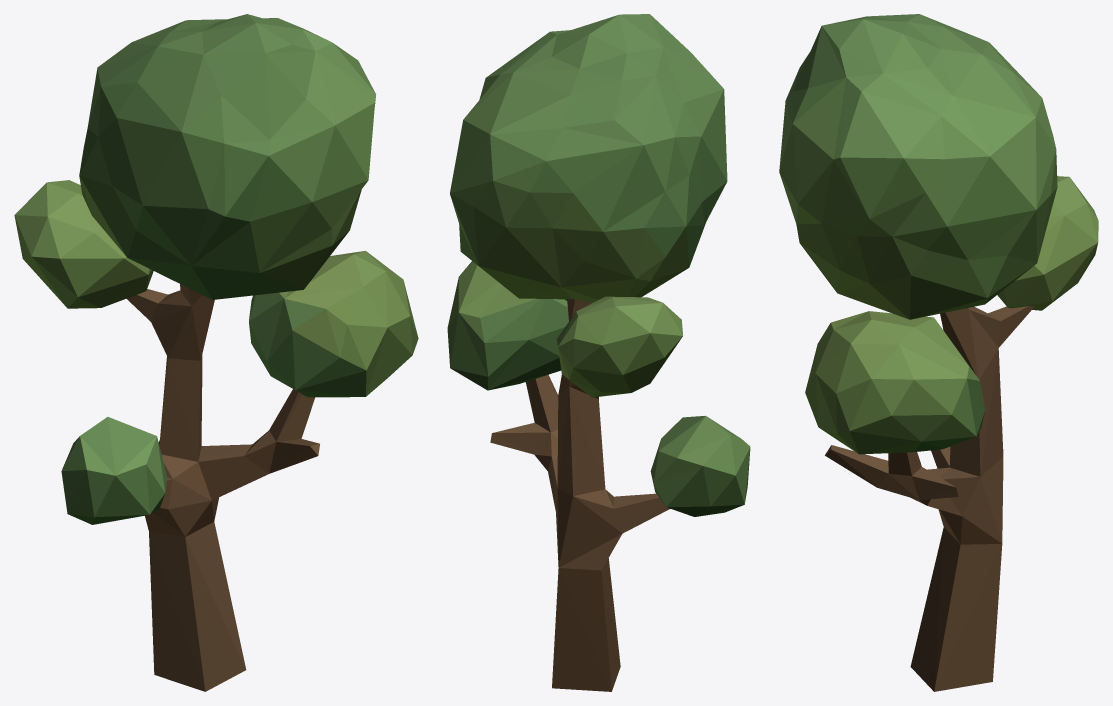
Rendered from Tree_01.glb.
The picture shows the model from 3 angles, left to right: view 1: azimuth 30°, elevation 25°; view 2: azimuth 150°, elevation 25°; view 3: azimuth 270°, elevation 25°; orthographic projection. The views are drawn at different scales.
Parts seen in each view (by area): view 1: Tree_01_LOD0; view 2: Tree_01_LOD0; view 3: Tree_01_LOD0.
Part boxes in pixels (x1=…): Tree_01_LOD0: x1=14, y1=14, x2=418, y2=691; Tree_01_LOD0: x1=447, y1=14, x2=750, y2=691; Tree_01_LOD0: x1=779, y1=14, x2=1098, y2=691.
Size of the model in its own units: 2.73 by 5.56 by 2.44.
